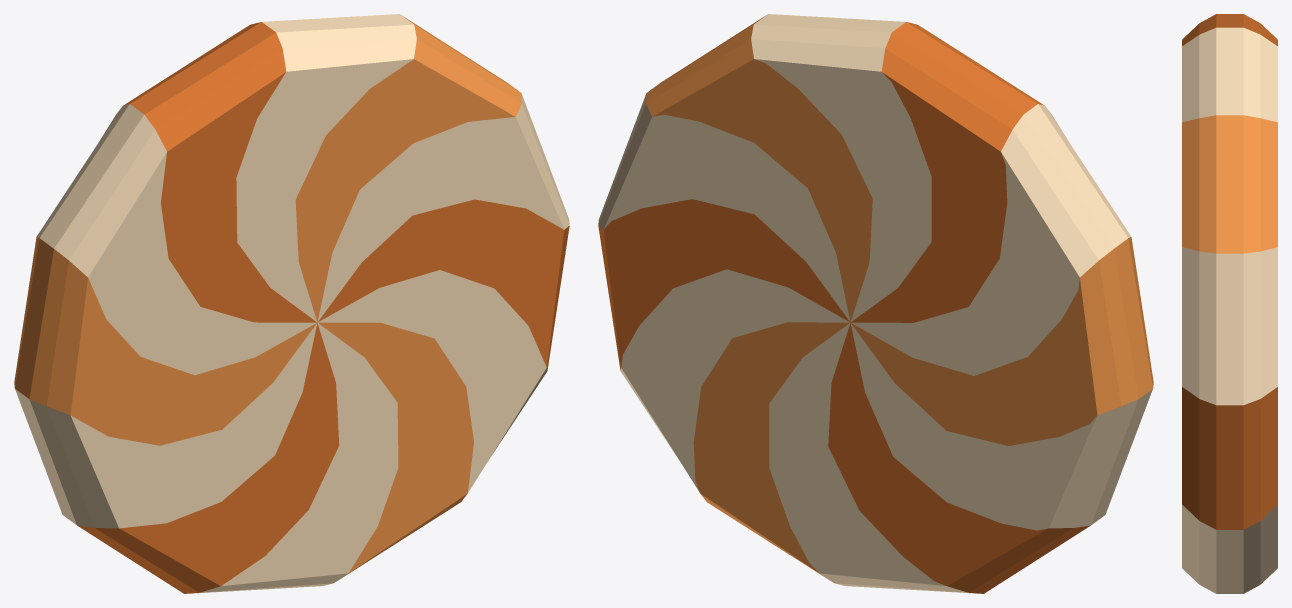
The model's file is WF_LP_HT_Props_Candy.003.fbx.
The picture shows the model from 3 angles, left to right: view 1: azimuth 30°, elevation 25°; view 2: azimuth 150°, elevation 25°; view 3: azimuth 270°, elevation 25°; orthographic projection. The views are drawn at different scales.
Parts seen in each view (by area): view 1: WF_LP_HT_Props_Candy.003; view 2: WF_LP_HT_Props_Candy.003; view 3: WF_LP_HT_Props_Candy.003.
Boxes of the visible parts, x1,y1,x2,y2 form: WF_LP_HT_Props_Candy.003: (14,14,569,593); WF_LP_HT_Props_Candy.003: (598,14,1153,593); WF_LP_HT_Props_Candy.003: (1182,14,1277,593).
Bounding box in the file's own units: 0.0931 × 0.0931 × 0.0152.
